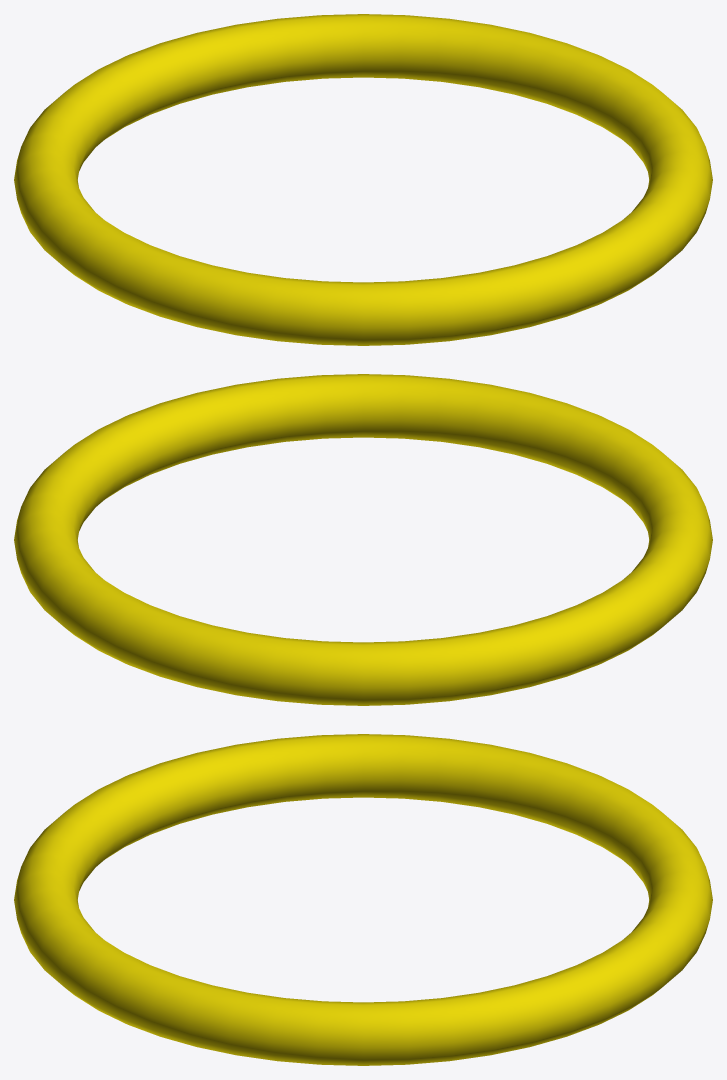
Rendered from リング.fbx.
The picture shows the model from 3 angles, top to bottom: view 1: azimuth 30°, elevation 25°; view 2: azimuth 150°, elevation 25°; view 3: azimuth 270°, elevation 25°; orthographic projection.
Parts seen in each view (by area): view 1: トーラス; view 2: トーラス; view 3: トーラス.
Part boxes in pixels (x1,y1,x2,y2): トーラス: [14, 14, 712, 345]; トーラス: [14, 374, 712, 705]; トーラス: [14, 734, 712, 1065].
Bounding box in the file's own units: 548 × 50 × 548.
